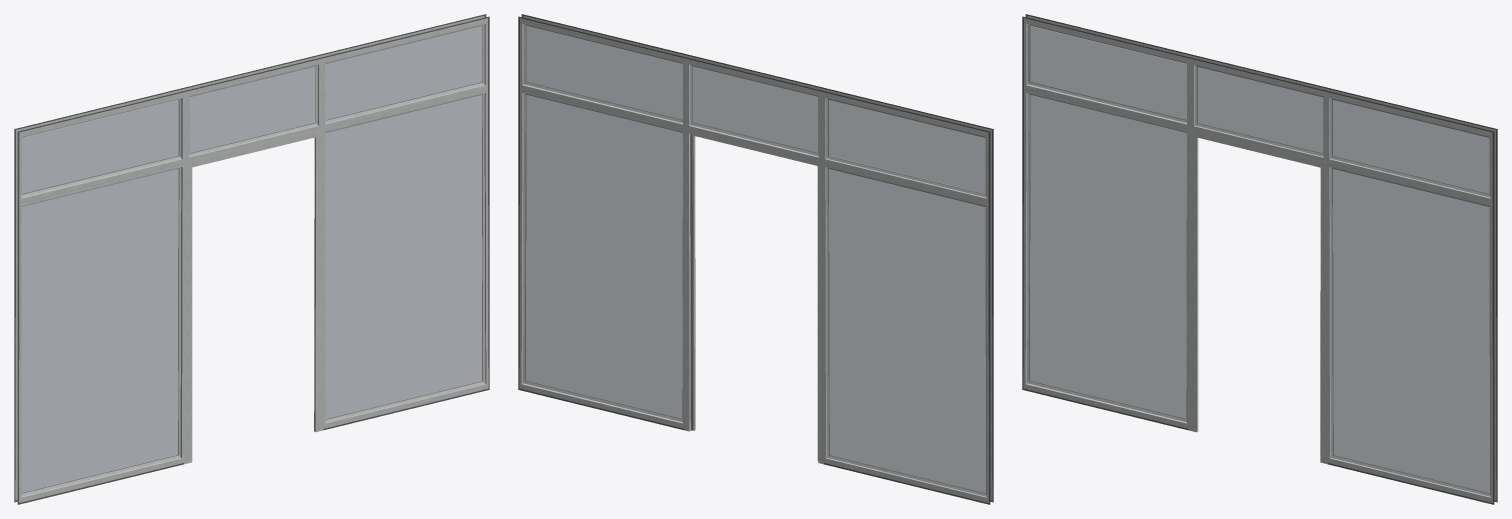
Rendered from Office_Wall_Glass_Door.fbx.
3 renders of one model, left to right at view 1: azimuth 30°, elevation 25°; view 2: azimuth 150°, elevation 25°; view 3: azimuth 330°, elevation 25°, orthographic.
Visible parts, largest first — view 1: Office_Wall_Glass_DoorGlass, Office_Wall_Glass_Door; view 2: Office_Wall_Glass_DoorGlass, Office_Wall_Glass_Door; view 3: Office_Wall_Glass_DoorGlass, Office_Wall_Glass_Door.
Part boxes in pixels (left/top/right/bottom): Office_Wall_Glass_DoorGlass: left=21, top=26, right=482, bottom=493; Office_Wall_Glass_Door: left=14, top=14, right=489, bottom=504; Office_Wall_Glass_DoorGlass: left=525, top=25, right=985, bottom=493; Office_Wall_Glass_Door: left=518, top=14, right=993, bottom=504; Office_Wall_Glass_DoorGlass: left=1028, top=25, right=1489, bottom=493; Office_Wall_Glass_Door: left=1022, top=14, right=1497, bottom=504.
Bounding box in the file's own units: 350 × 264 × 4.39.
